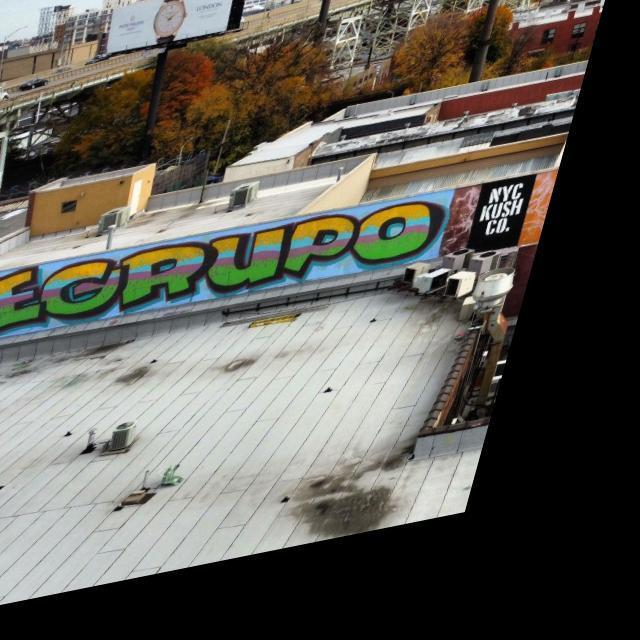-: (0, 197, 479, 369), (482, 185, 556, 281)
